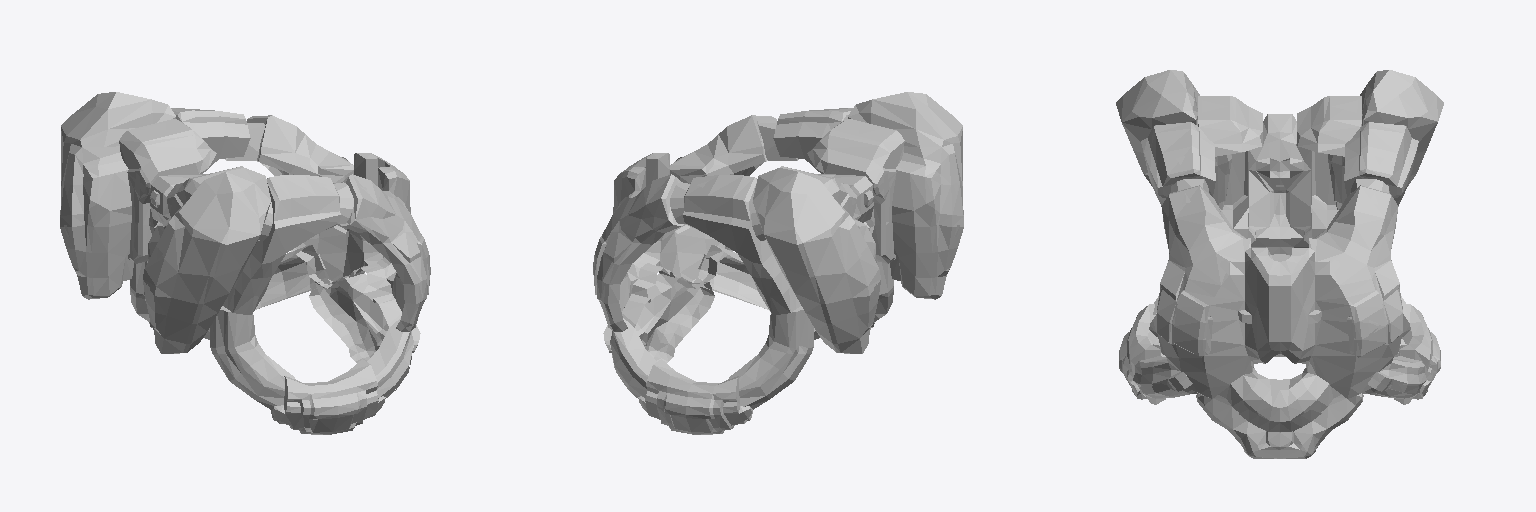
The model's file is Scout Chest MALE.obj.
3 renders of one model, left to right at view 1: azimuth 30°, elevation 25°; view 2: azimuth 150°, elevation 25°; view 3: azimuth 270°, elevation 25°, orthographic.
Parts seen in each view (by area): view 1: armor_torso_scout; view 2: armor_torso_scout; view 3: armor_torso_scout.
Part boxes in pixels (left/top/right/bottom): armor_torso_scout: left=60, top=92, right=430, bottom=434; armor_torso_scout: left=593, top=92, right=963, bottom=434; armor_torso_scout: left=1116, top=70, right=1443, bottom=458.
Bounding box in the file's own units: 18.37 × 17.05 × 17.52.